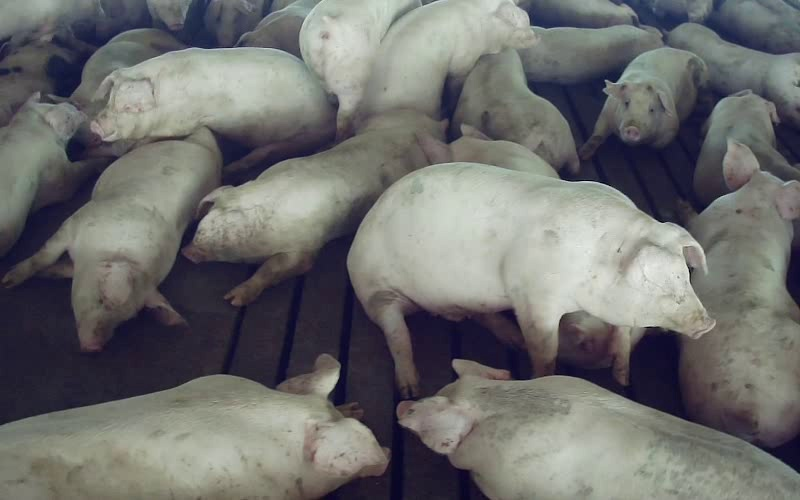pig: (397, 359, 799, 499), (0, 354, 388, 499), (182, 111, 445, 304), (4, 128, 221, 351), (680, 141, 799, 447), (91, 48, 335, 171), (360, 0, 535, 118), (0, 93, 106, 255), (452, 49, 578, 173), (579, 47, 706, 158), (667, 23, 799, 129), (693, 90, 799, 205), (519, 25, 661, 83)
